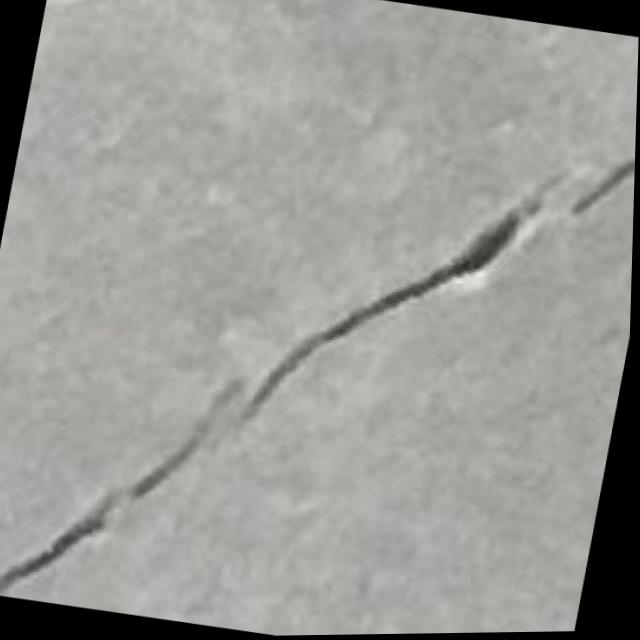Crack: (0, 60, 638, 640)
